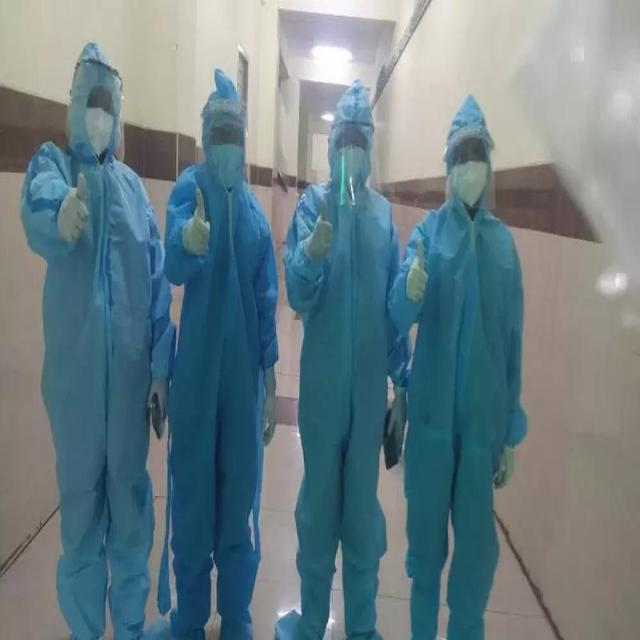Coverall: (45, 89, 430, 640), (399, 152, 639, 640)
Gloves: (136, 418, 222, 613), (450, 449, 530, 633)
Mask: (195, 244, 281, 384), (515, 342, 611, 457)
